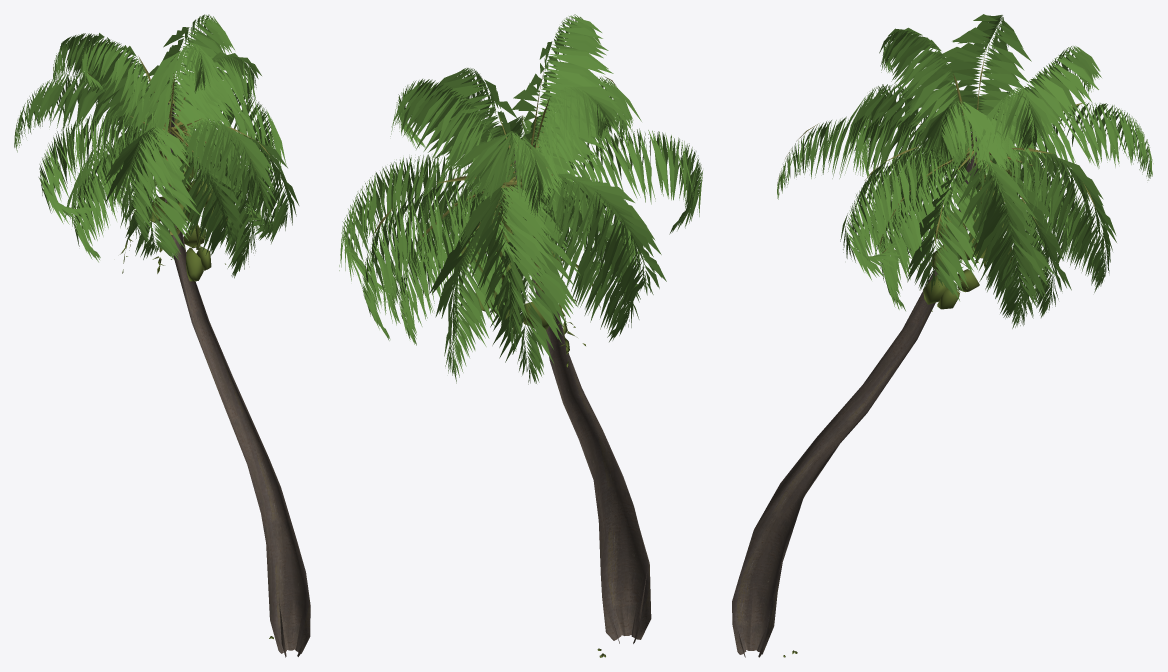
The model's file is tree_palm_coconut_user.glb.
The picture shows the model from 3 angles, left to right: view 1: azimuth 30°, elevation 25°; view 2: azimuth 150°, elevation 25°; view 3: azimuth 270°, elevation 25°; orthographic projection. The views are drawn at different scales.
Parts seen in each view (by area): view 1: CoconutPalm_PLA; view 2: CoconutPalm_PLA; view 3: CoconutPalm_PLA.
Part boxes in pixels (x1,y1,x2,y2): CoconutPalm_PLA: [14, 14, 310, 657]; CoconutPalm_PLA: [339, 14, 702, 657]; CoconutPalm_PLA: [732, 14, 1153, 657].
Size of the model in its own units: 4.55 by 9.99 by 6.24.
Materials: 4 (1 with a texture image).
